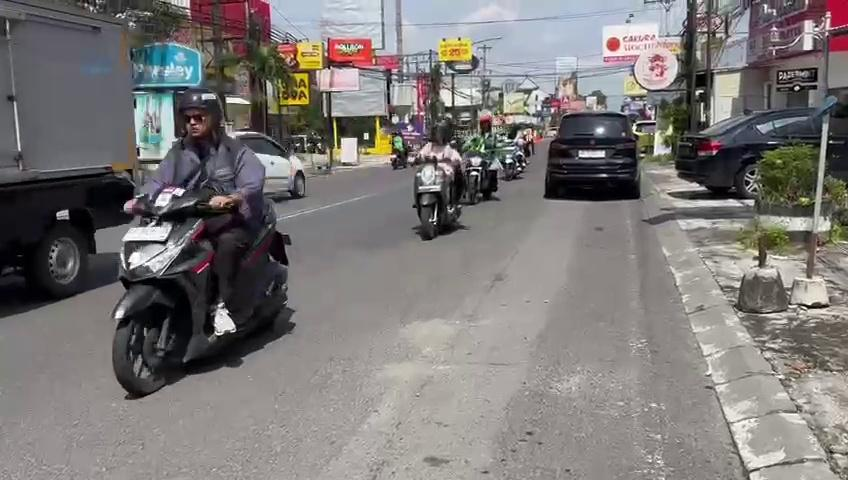helm: (176, 87, 226, 140)
riding: (108, 86, 294, 397)
